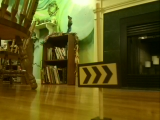right: (77, 63, 120, 87)
